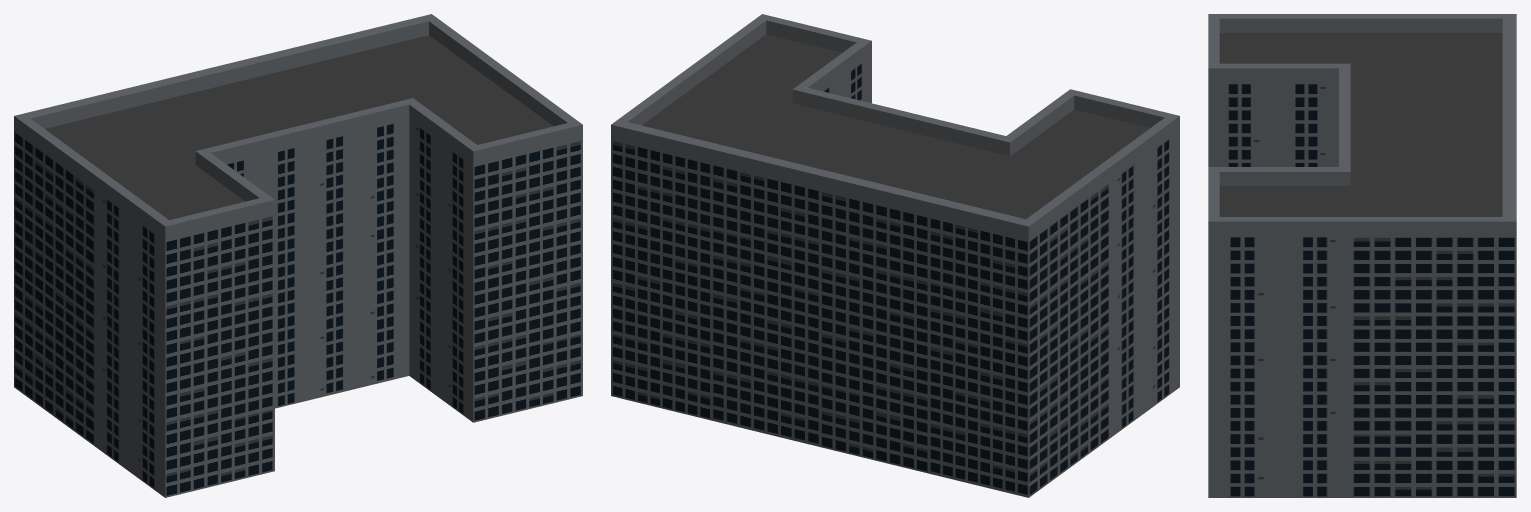
Rendered from SM_Env_Background_Building_01.fbx.
3 views of the same model, side by side, from view 1: azimuth 30°, elevation 25°; view 2: azimuth 150°, elevation 25°; view 3: azimuth 270°, elevation 25° (orthographic).
Parts seen in each view (by area): view 1: SM_Env_Background_Building_01; view 2: SM_Env_Background_Building_01; view 3: SM_Env_Background_Building_01.
Part boxes in pixels (x1,y1,x2,y2): SM_Env_Background_Building_01: (14, 14, 582, 497); SM_Env_Background_Building_01: (611, 14, 1179, 497); SM_Env_Background_Building_01: (1208, 14, 1516, 497).
Bounding box in the file's own units: 5635 × 3498 × 3533.
